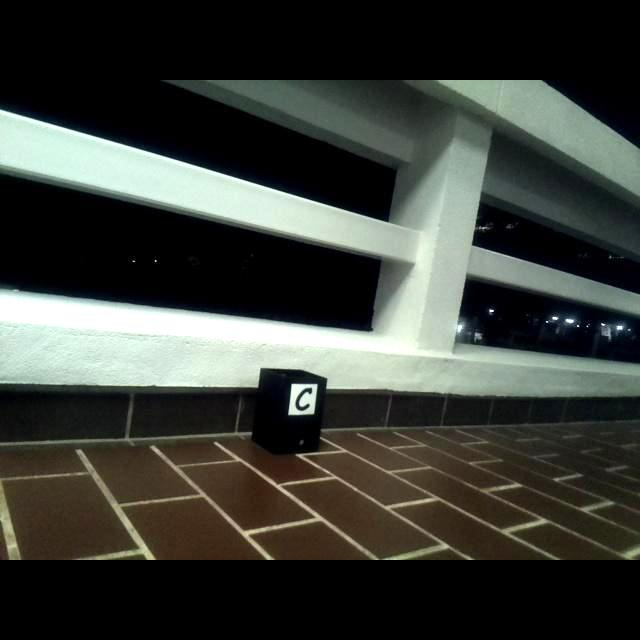C: (295, 388, 313, 412)
